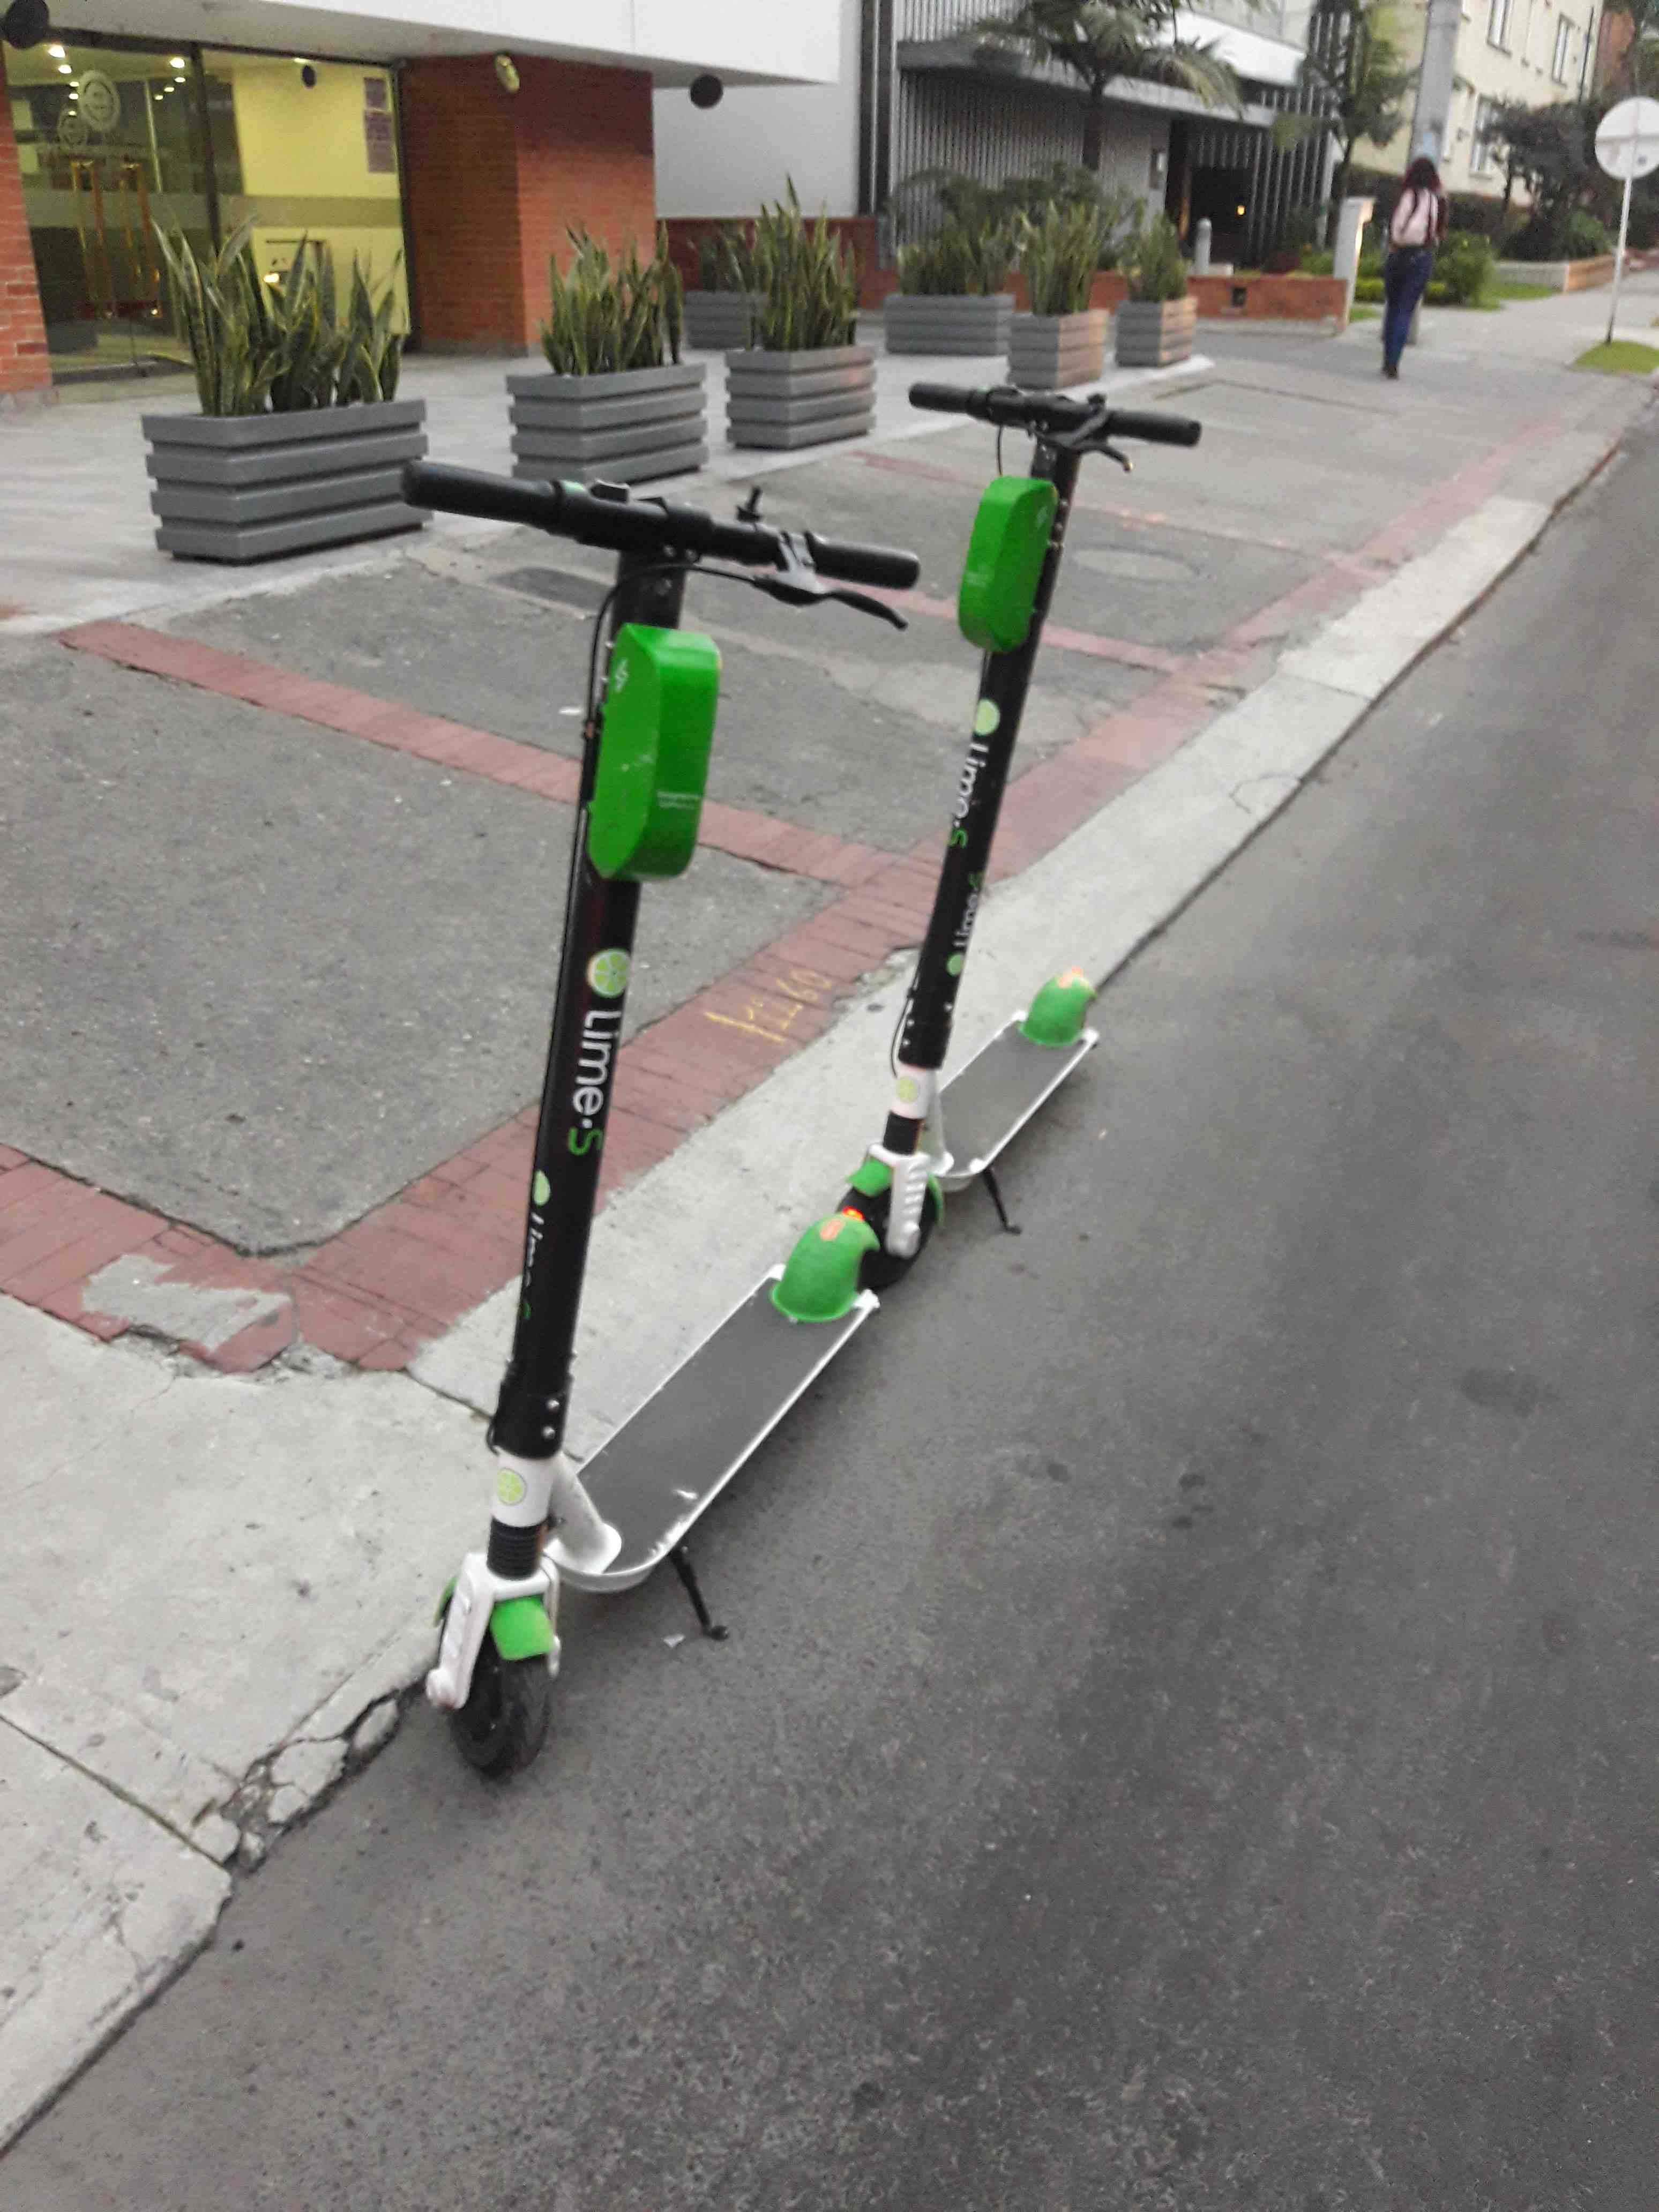too close: (265, 1487, 664, 1844), (995, 951, 1164, 1130)
